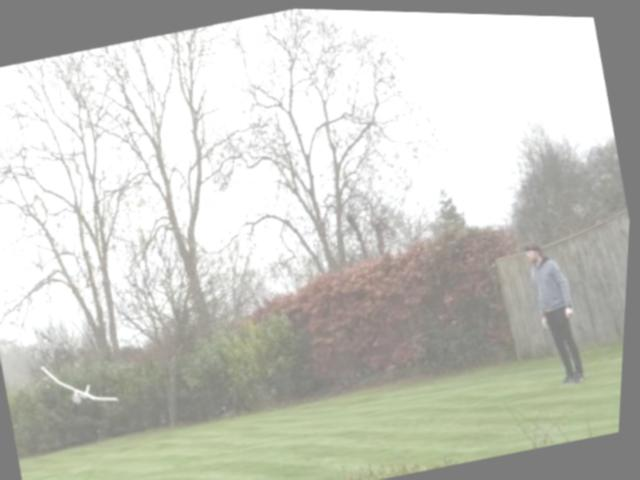uav: (31, 342, 139, 428)
